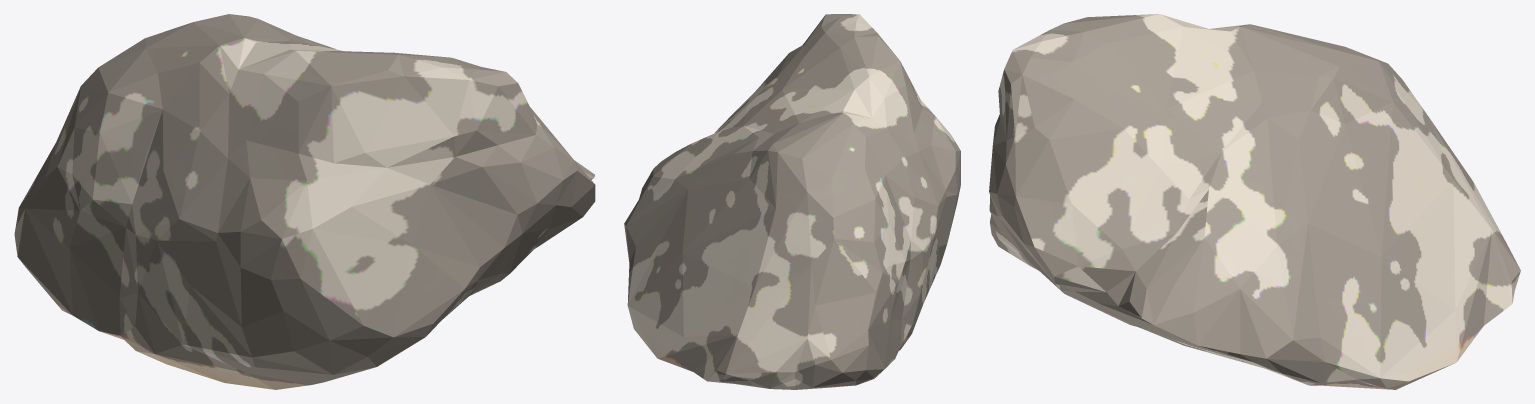
Rendered from RockGrayA.fbx.
3 views of the same model, side by side, from view 1: azimuth 30°, elevation 25°; view 2: azimuth 150°, elevation 25°; view 3: azimuth 270°, elevation 25° (orthographic). The views are drawn at different scales.
Visible parts, largest first — view 1: RockGrayA; view 2: RockGrayA; view 3: RockGrayA.
Part boxes in pixels (bbox=[...]): RockGrayA: bbox=[14, 14, 595, 389]; RockGrayA: bbox=[624, 14, 960, 389]; RockGrayA: bbox=[989, 14, 1520, 389].
Size of the model in its own units: 2.62 by 1.97 by 3.
Materials: 1 (1 with a texture image).
